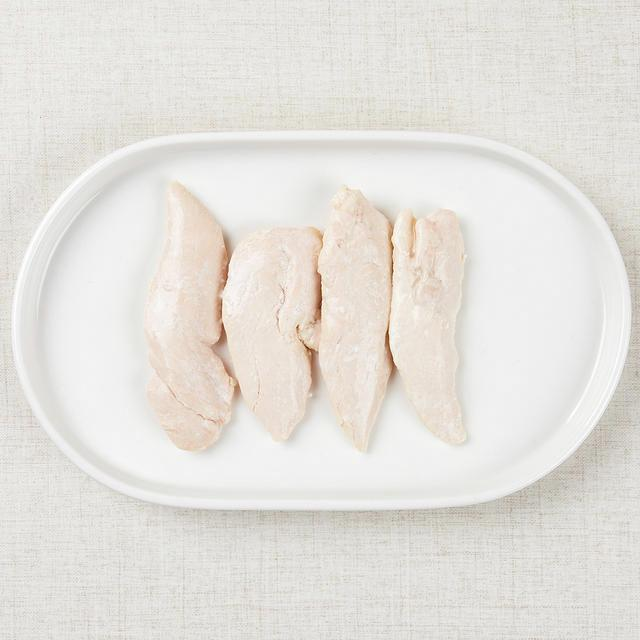chicken: (140, 176, 238, 454), (221, 223, 322, 442), (317, 184, 392, 449), (390, 207, 472, 448)
